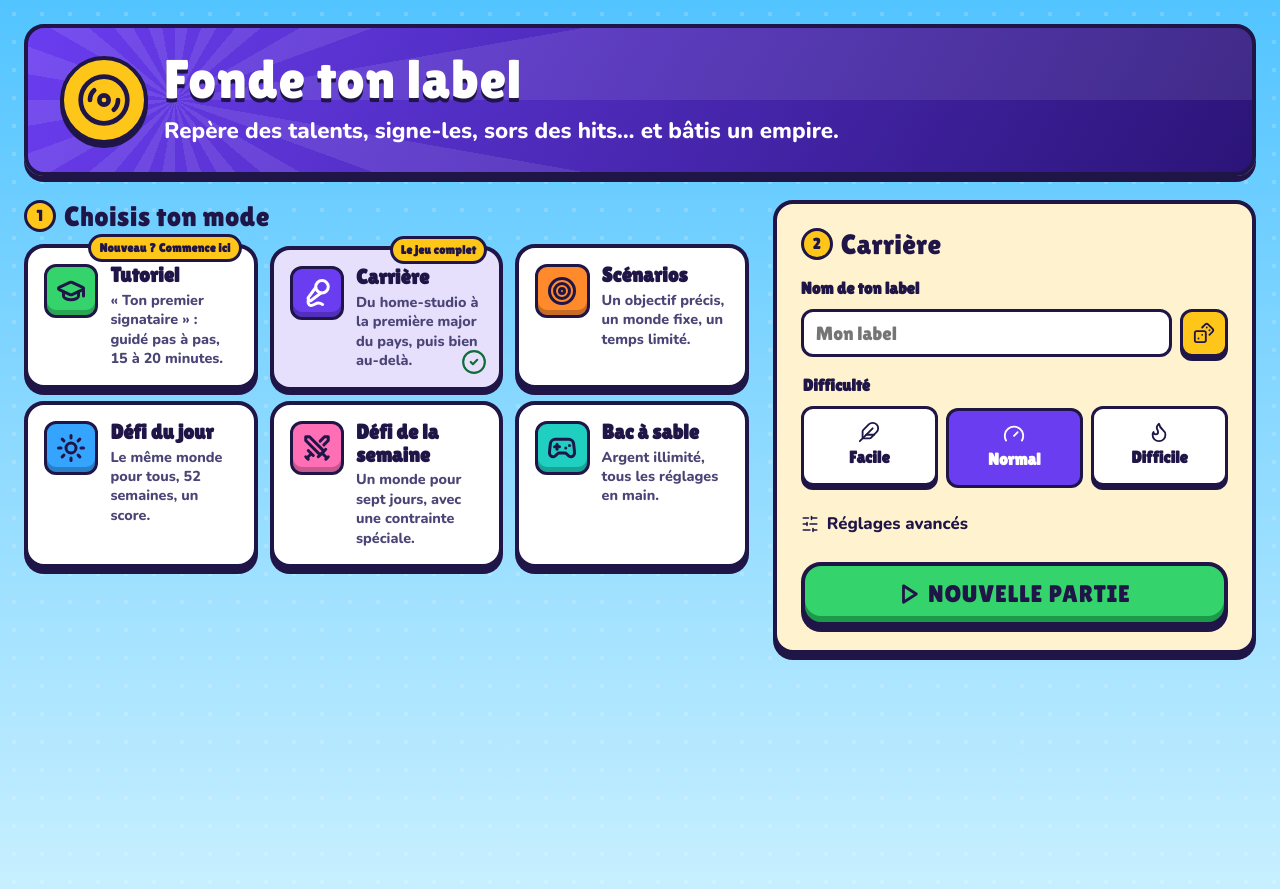
Scenario: écran Tournées › invite à signer un artiste quand le roster est vide
Click the button "Nouvelle partie". click: (1014, 594)
box: 801,562 -> 1228,626
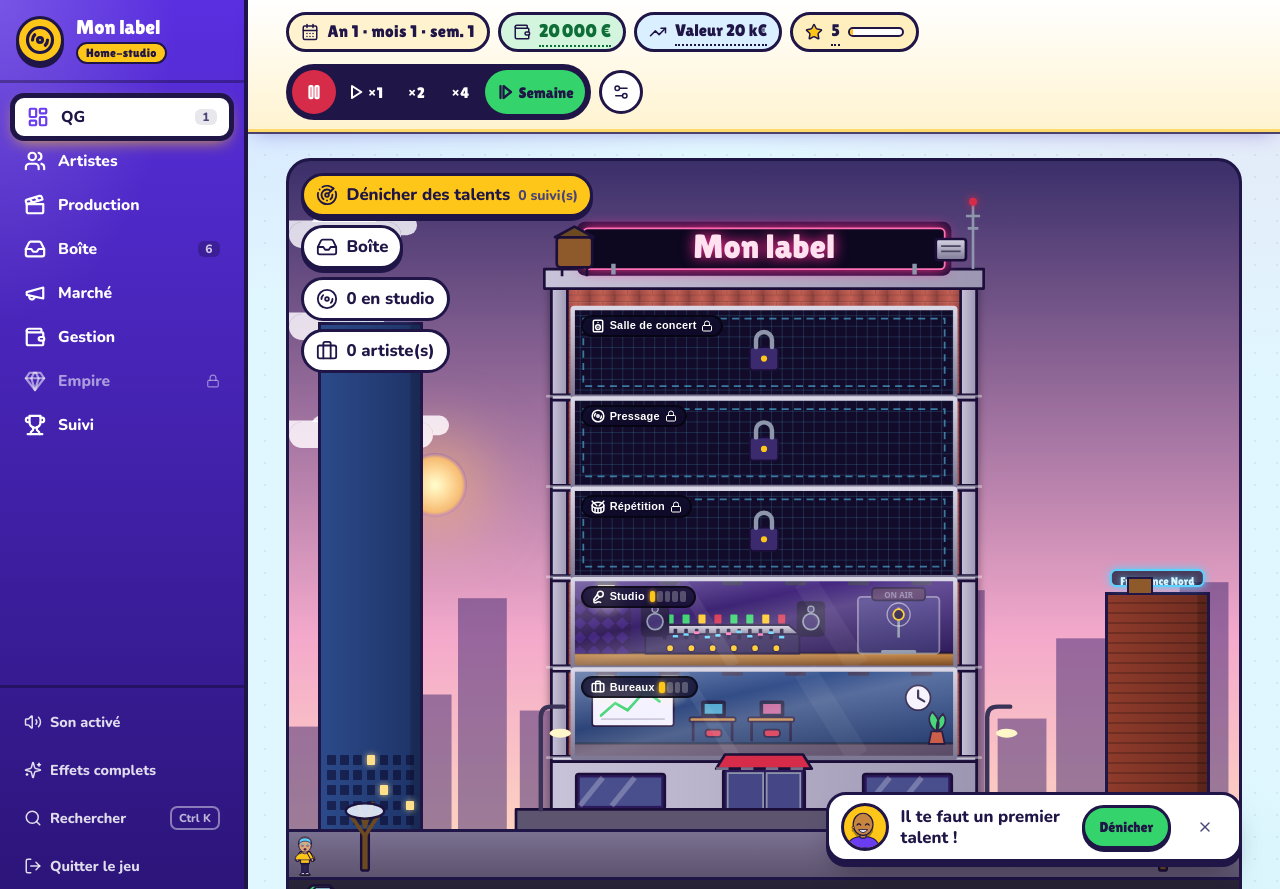
Click the button "Production". click: (122, 205)
box: 12,183 -> 232,227
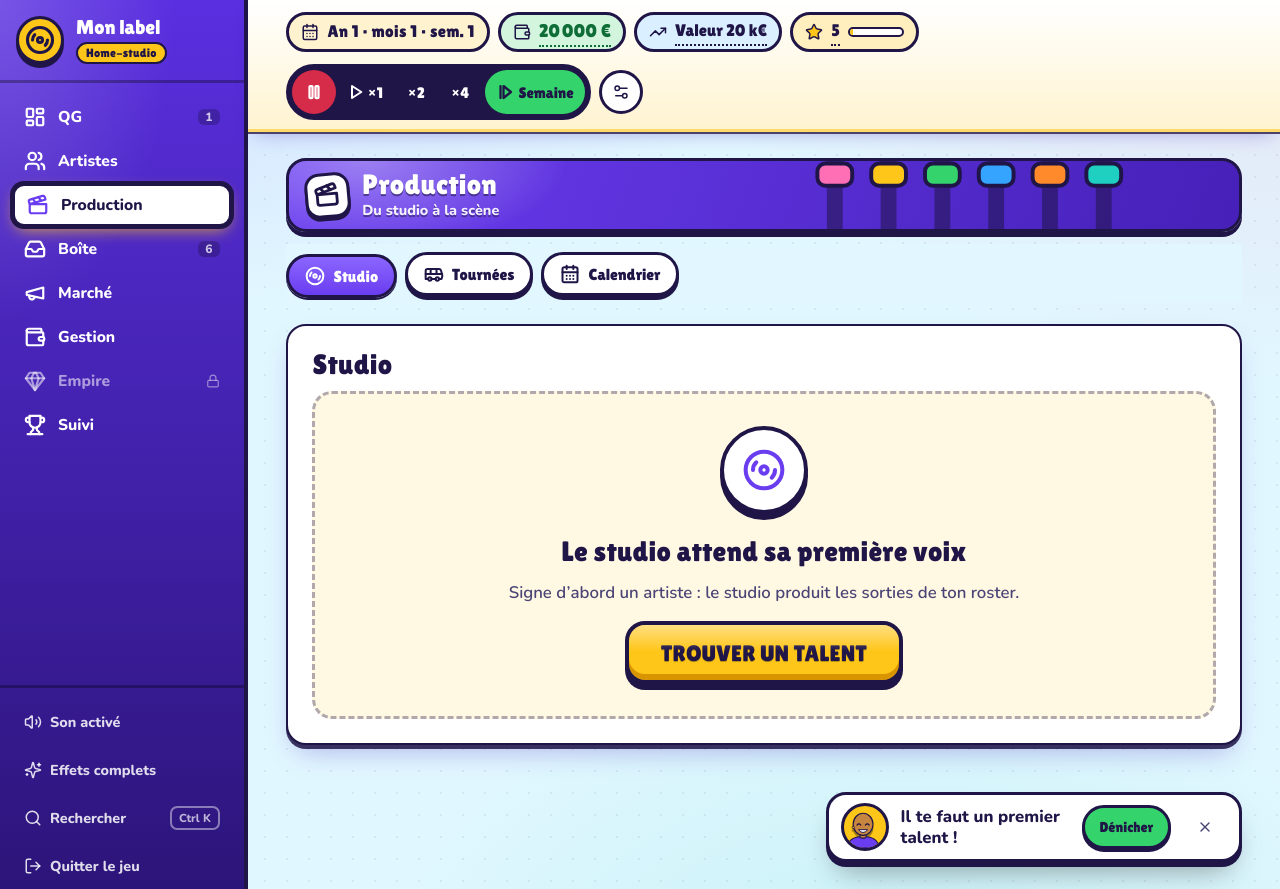
Click the tab "Tournées". click: (469, 274)
box: 405,252 -> 533,296
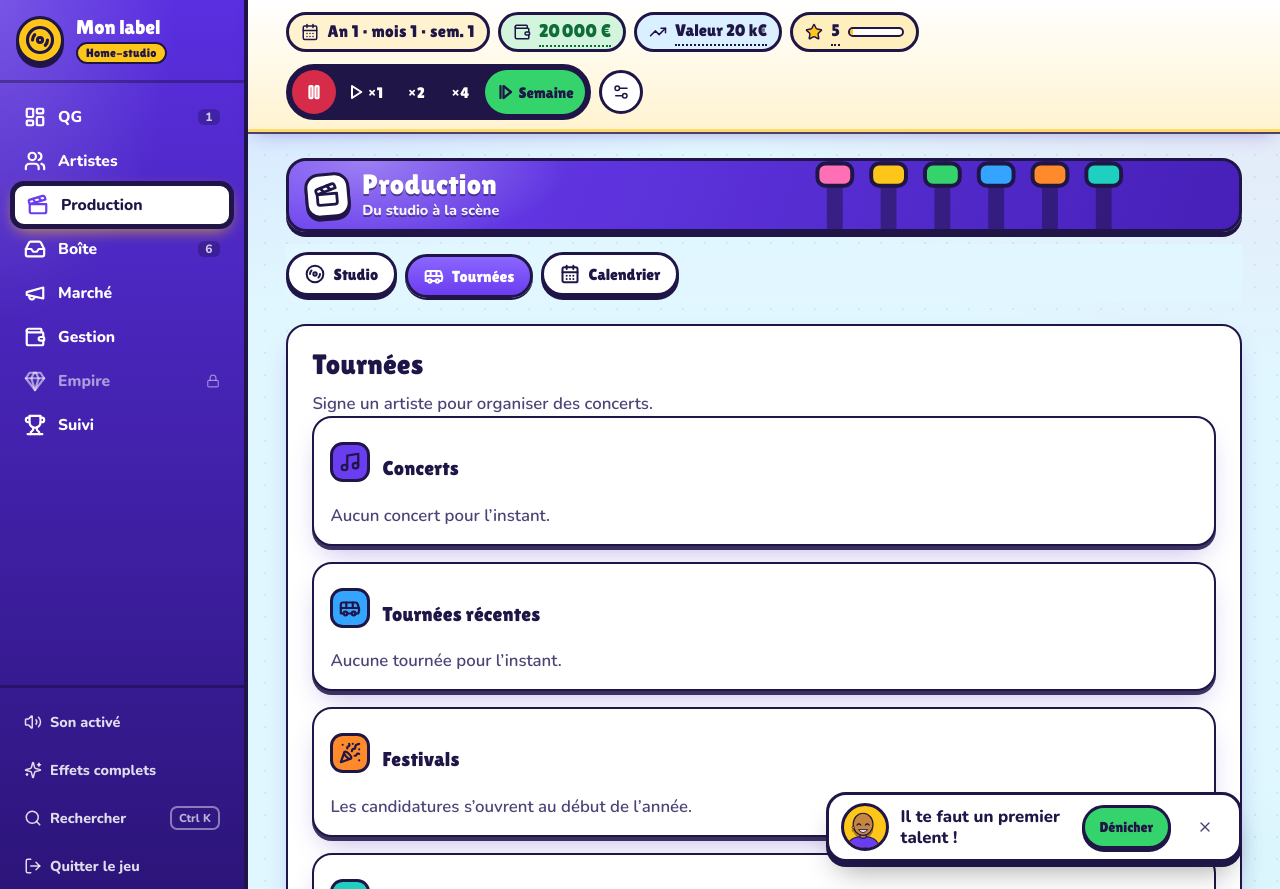
Expected: the heading "Tournées" is shown, 312,348 -> 424,380
Expected: the text "Signe un artiste pour organiser des concerts." is shown, 312,392 -> 653,415
Expected: the heading "Festivals" is shown, 382,749 -> 460,770
